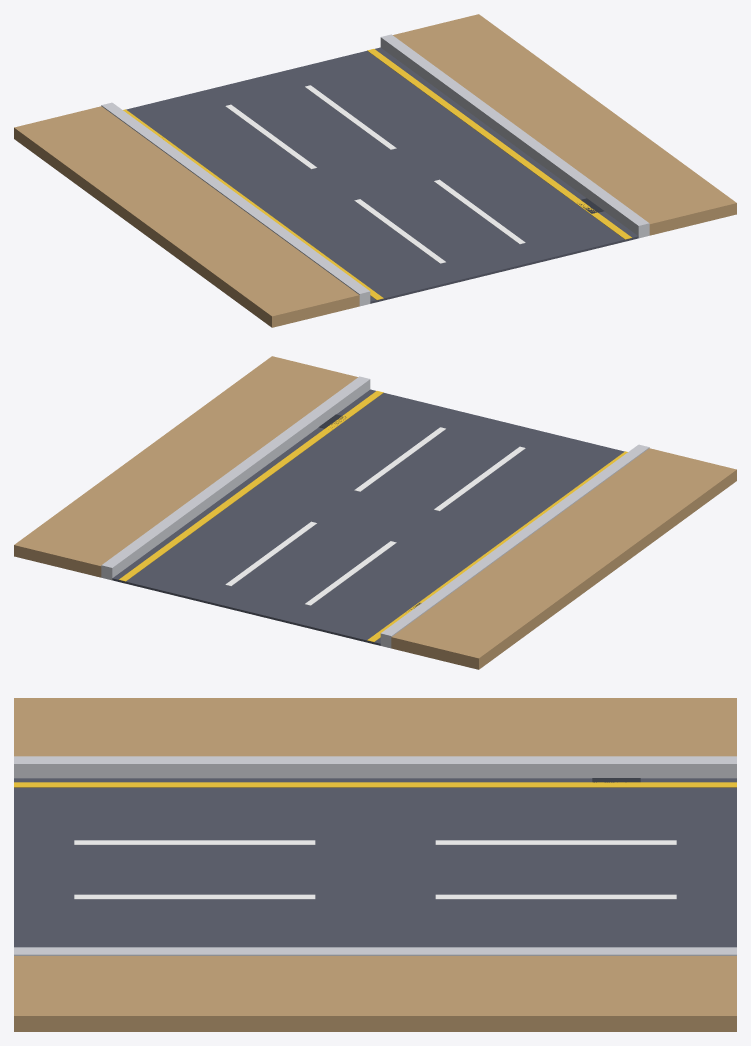
Rendered from prop_road.glb.
The picture shows the model from 3 angles, top to bottom: view 1: azimuth 30°, elevation 25°; view 2: azimuth 150°, elevation 25°; view 3: azimuth 270°, elevation 25°; orthographic projection. The views are drawn at different scales.
Parts seen in each view (by area): view 1: main, walks, kerbs, edges, dashes; view 2: main, walks, kerbs, edges, dashes; view 3: main, walks, kerbs, dashes, edges.
Boxes of the visible parts, bbox=[...] form: main: bbox=[126, 47, 638, 303]; walks: bbox=[14, 14, 736, 327]; kerbs: bbox=[101, 34, 649, 306]; edges: bbox=[123, 49, 631, 299]; dashes: bbox=[225, 85, 525, 263]; main: bbox=[112, 389, 624, 645]; walks: bbox=[14, 356, 736, 669]; kerbs: bbox=[101, 376, 649, 648]; edges: bbox=[119, 391, 627, 641]; dashes: bbox=[225, 427, 525, 605]; main: bbox=[14, 778, 736, 947]; walks: bbox=[14, 698, 736, 1031]; kerbs: bbox=[14, 756, 736, 955]; dashes: bbox=[74, 840, 676, 899]; edges: bbox=[14, 782, 736, 787].
Size of the model in its own units: 9.36 by 0.24 by 9.
